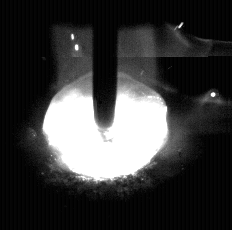arame: (94, 0, 118, 129)
poca: (42, 0, 170, 230)
